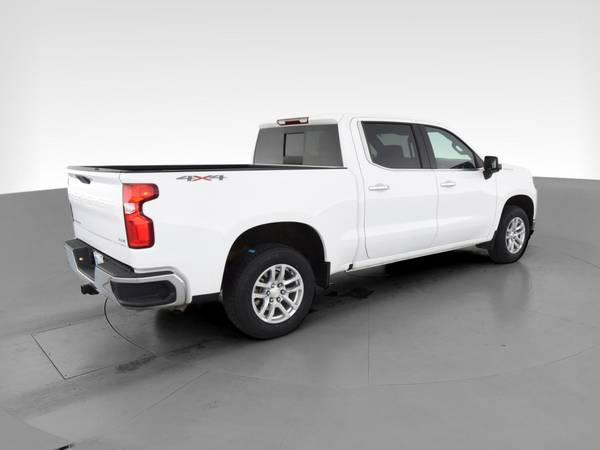Front_Fender: (489, 164, 535, 236)
Front_Right_Door: (433, 170, 499, 255)
Front_Right_Window: (422, 125, 497, 170)
Rear_Bumper: (63, 242, 184, 313)
Rear_Fender: (121, 166, 361, 303)
Rear_Right_Door: (357, 170, 437, 265)
Rear_Right_Window: (351, 119, 434, 171)
Rear_Windshield: (252, 118, 356, 168)
Right_Taillight: (121, 184, 160, 249)
Tailgate: (68, 168, 129, 264)
Wheel: (227, 243, 320, 338), (494, 207, 531, 264)
